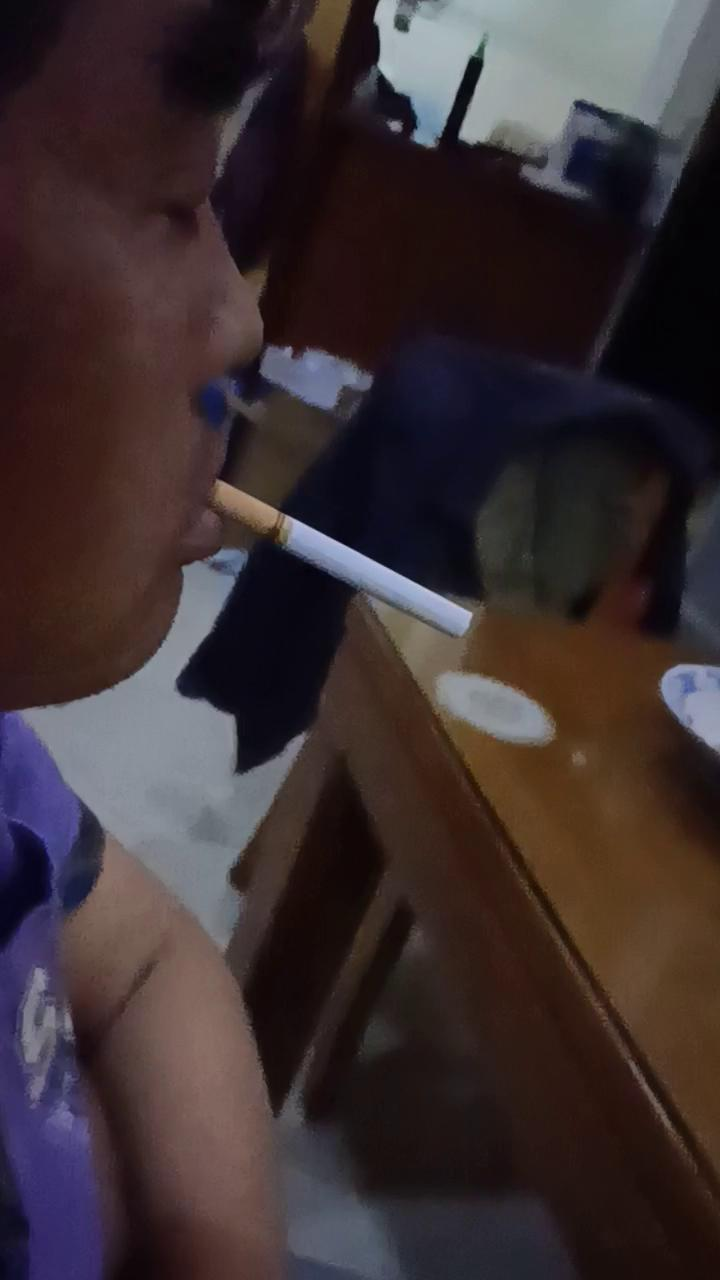smoke: (206, 480, 481, 642)
